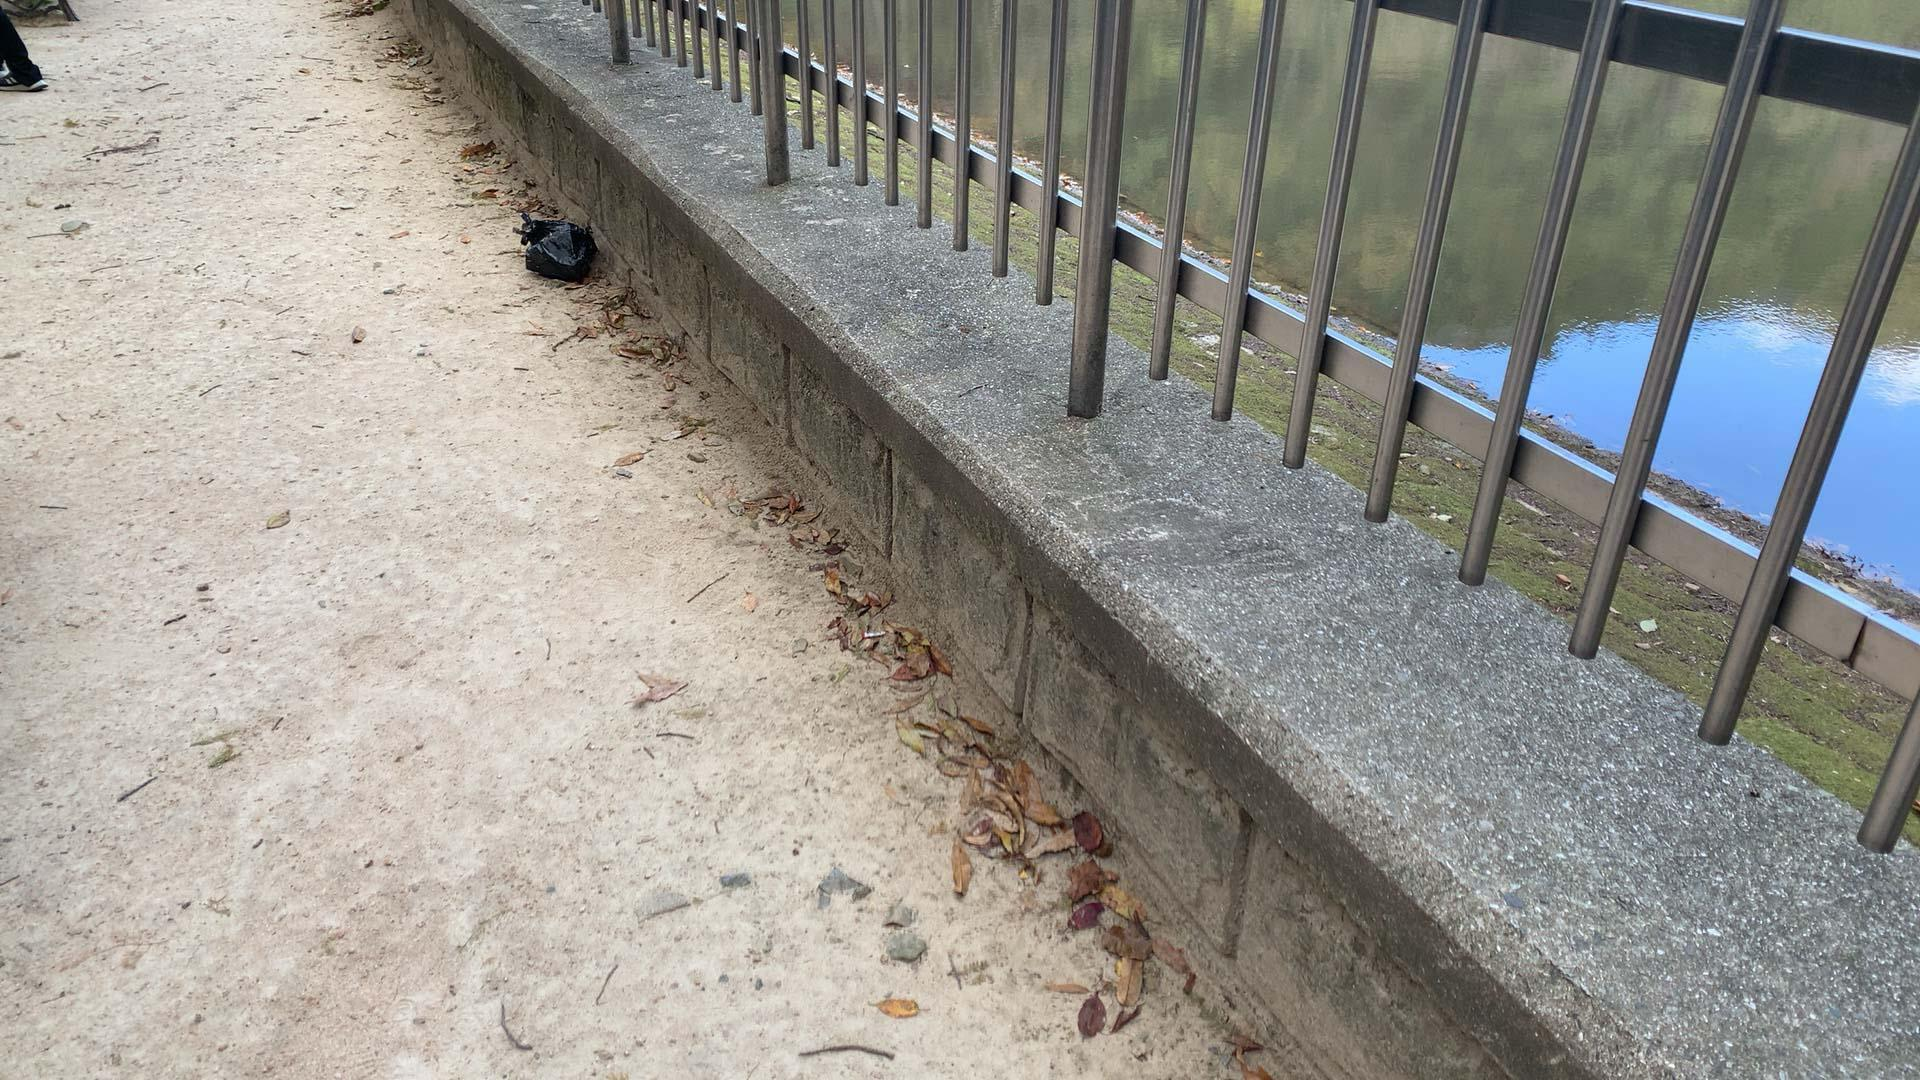black_bag: (502, 208, 604, 287)
